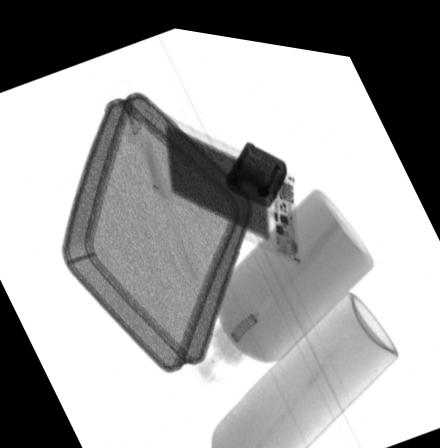Lighter: (226, 134, 287, 198)
Powerbank: (139, 96, 302, 256)
Sprayer: (211, 278, 397, 448)
